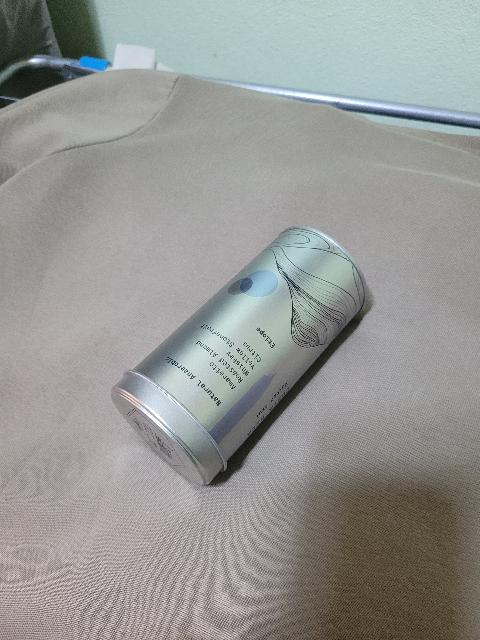Metal: (111, 216, 372, 495)
